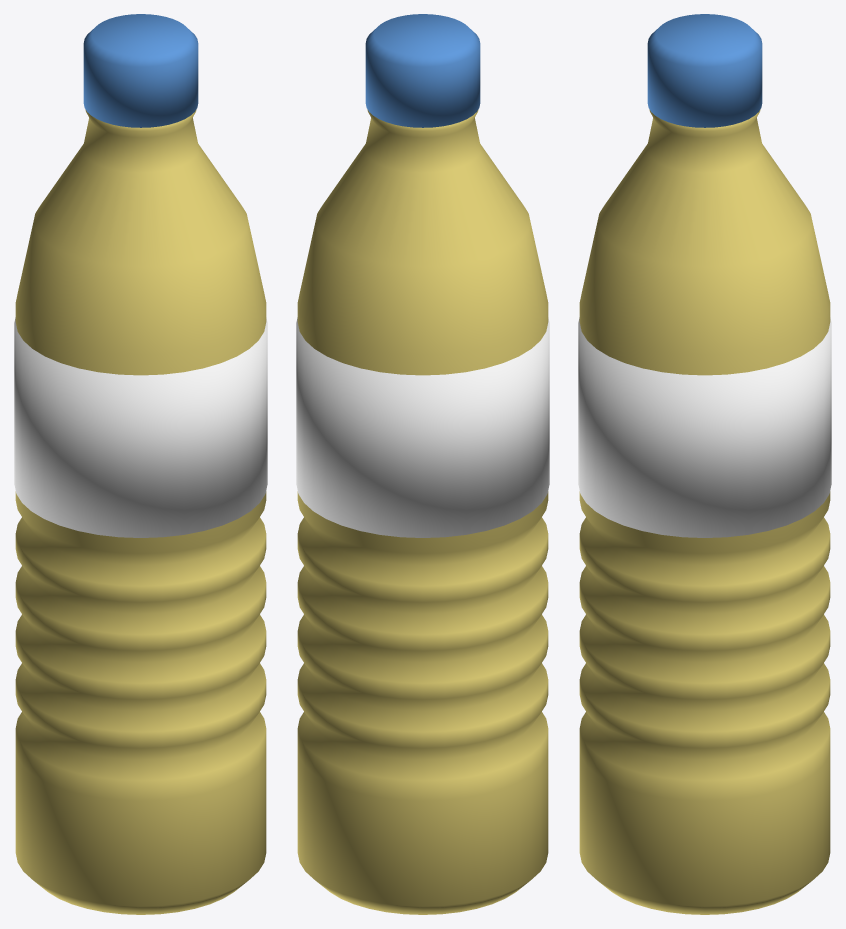
Rendered from SM_Tran.glb.
3 renders of one model, left to right at view 1: azimuth 30°, elevation 25°; view 2: azimuth 150°, elevation 25°; view 3: azimuth 270°, elevation 25°, orthographic.
Parts seen in each view (by area): view 1: SM_Tran; view 2: SM_Tran; view 3: SM_Tran.
Boxes of the visible parts, x1=… form: SM_Tran: x1=14, y1=14, x2=267, y2=914; SM_Tran: x1=296, y1=14, x2=549, y2=914; SM_Tran: x1=578, y1=14, x2=831, y2=914.
Bounding box in the file's own units: 0.0566 × 0.206 × 0.0566.
